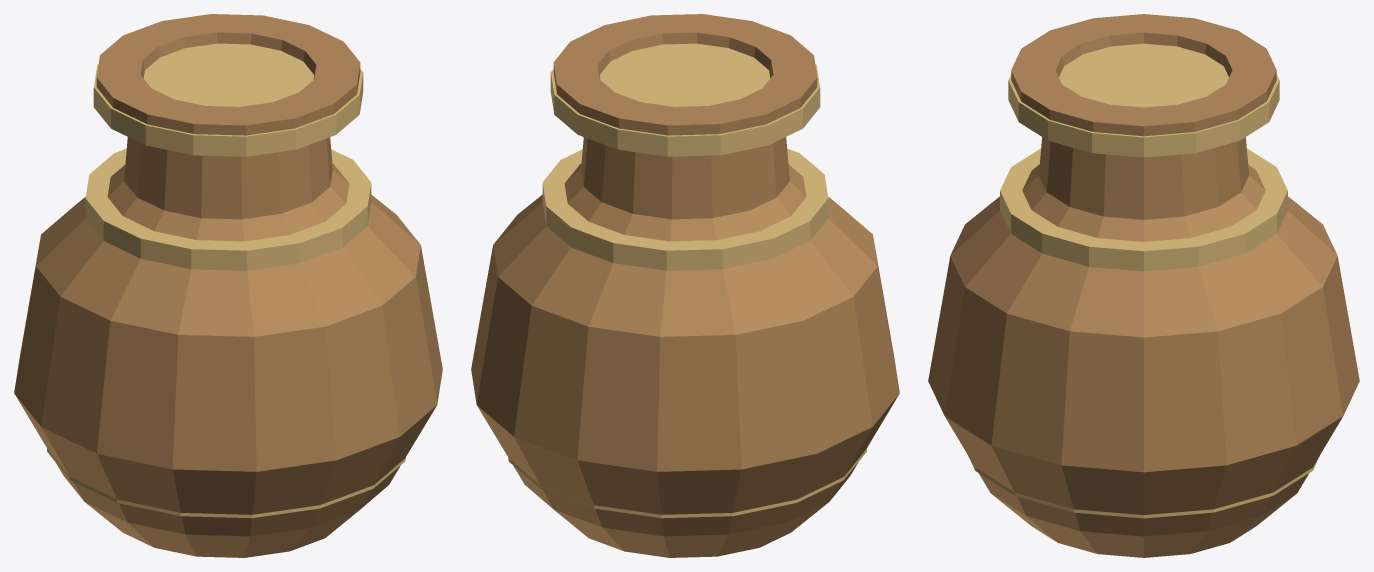
File: Urn.fbx
The picture shows the model from 3 angles, left to right: view 1: azimuth 30°, elevation 25°; view 2: azimuth 150°, elevation 25°; view 3: azimuth 270°, elevation 25°; orthographic projection.
Parts seen in each view (by area): view 1: Urn.002; view 2: Urn.002; view 3: Urn.002.
Boxes of the visible parts, x1=… form: Urn.002: x1=14, y1=14, x2=442, y2=557; Urn.002: x1=471, y1=14, x2=899, y2=557; Urn.002: x1=928, y1=14, x2=1359, y2=557.
Size of the model in its own units: 78 by 87 by 78.
